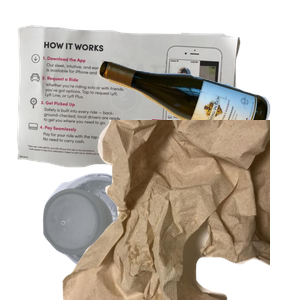glass: (95, 57, 300, 189)
paper: (14, 22, 247, 191)
plastic: (40, 170, 187, 300)
trash: (60, 120, 300, 300)
